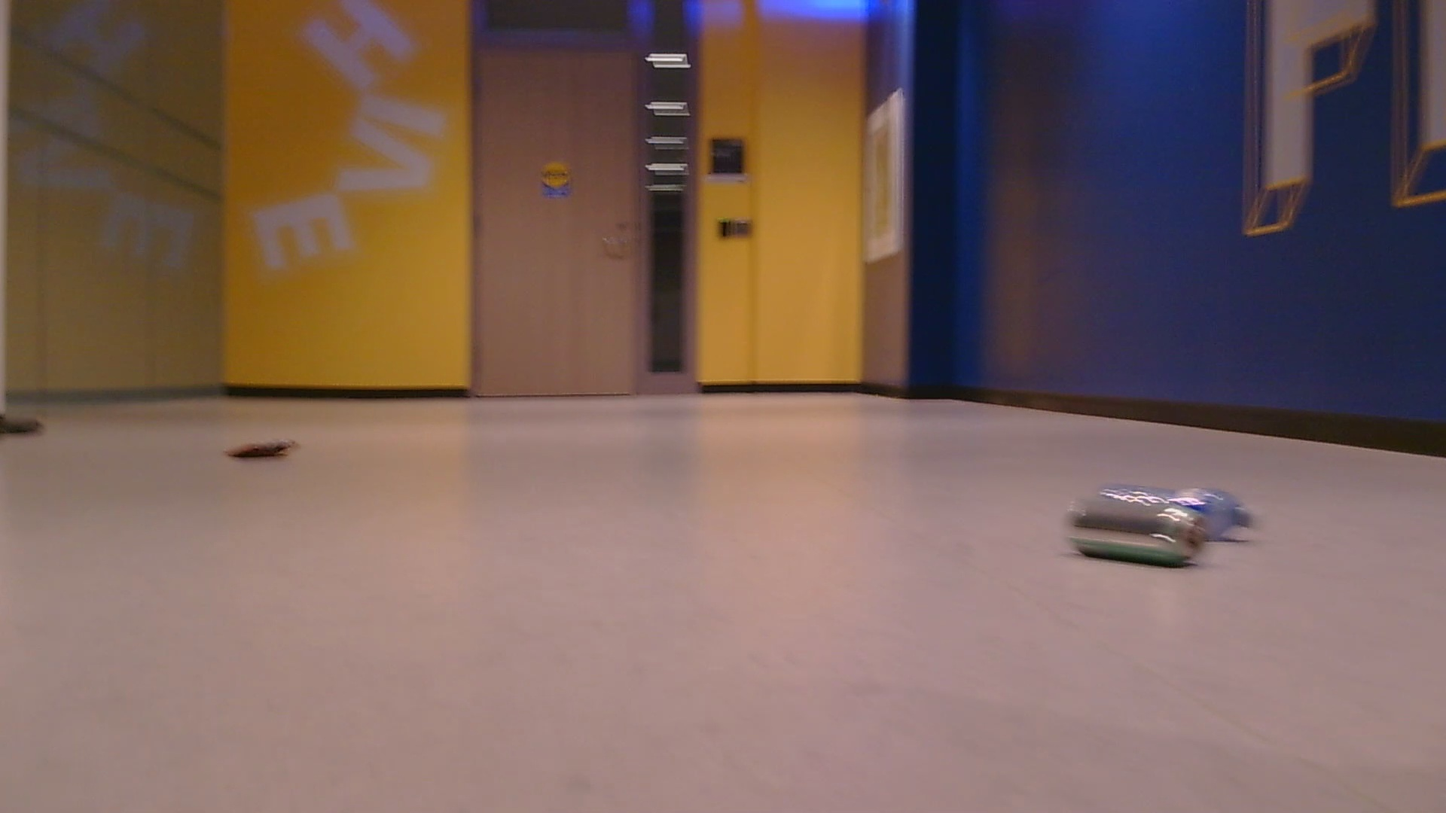can: (1066, 482, 1258, 568), (221, 427, 300, 464)
